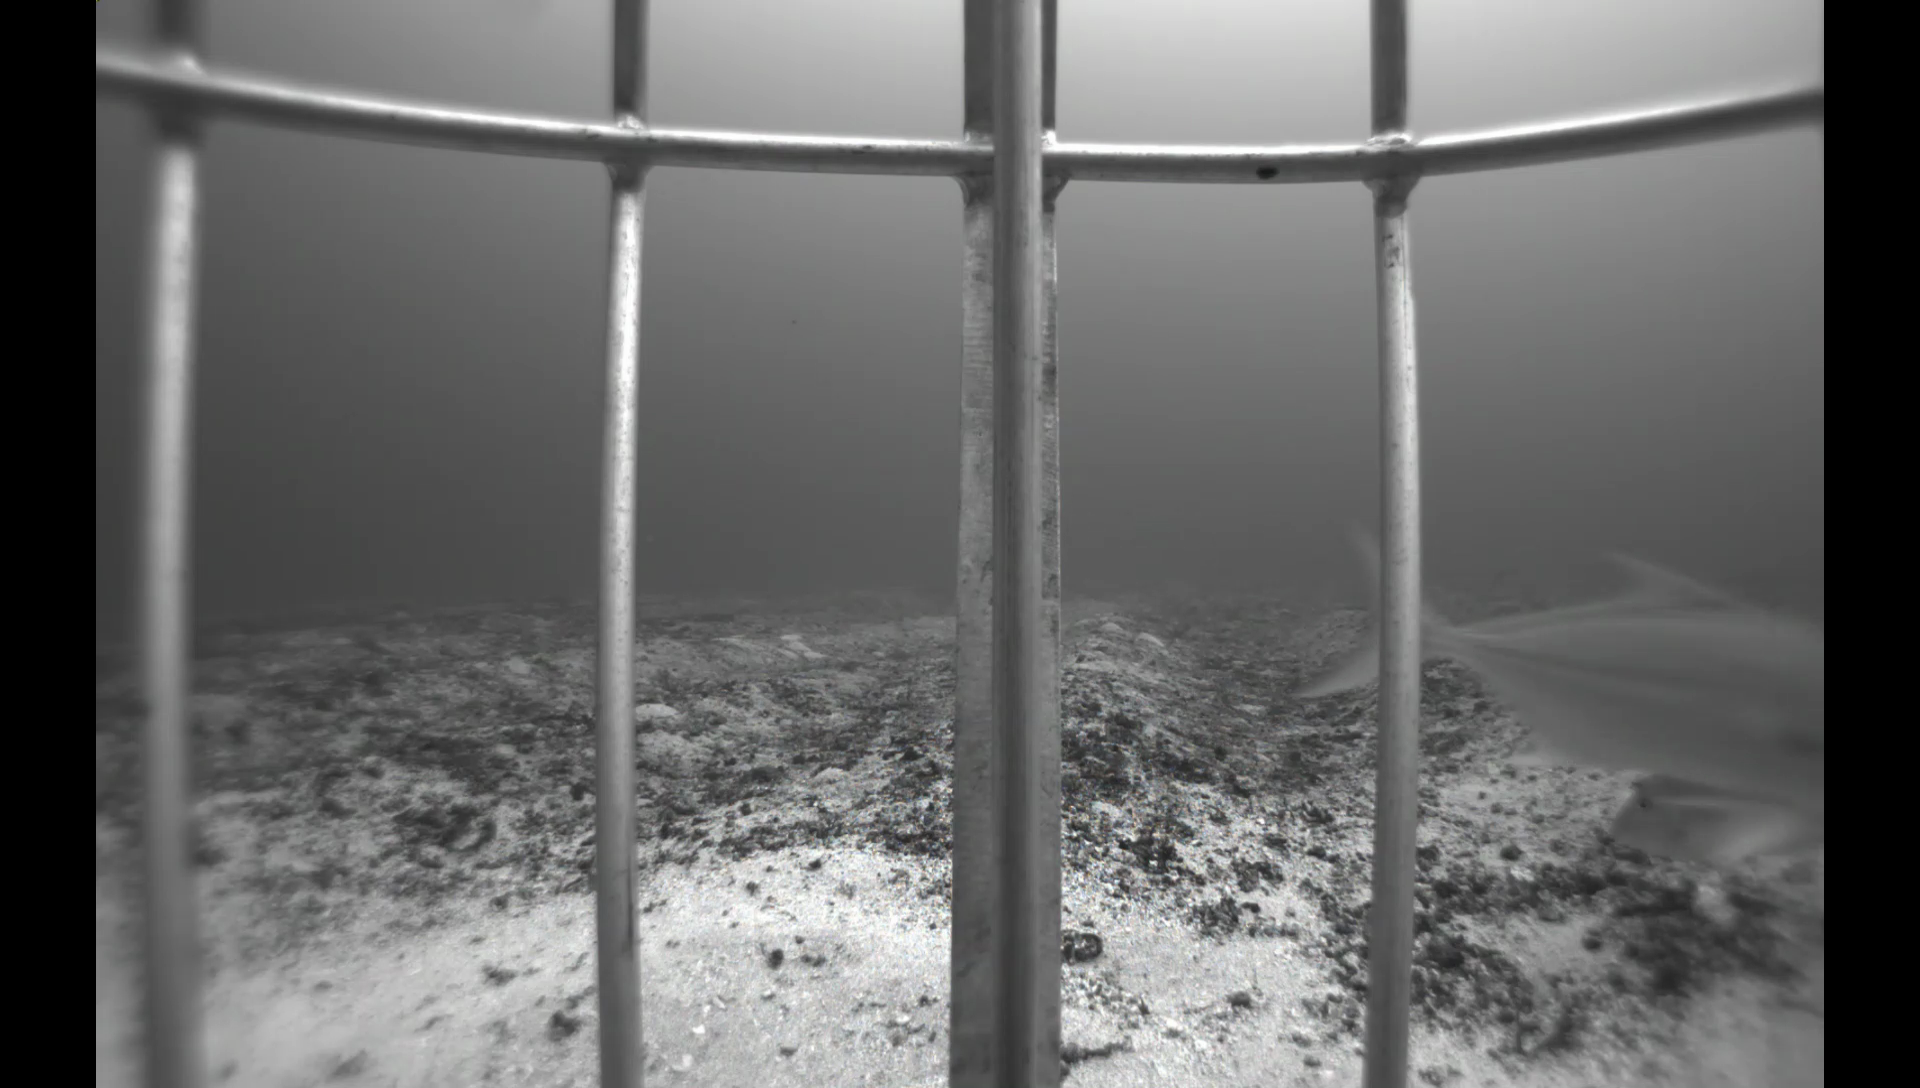CALAMUSPRORIDENS-170210605: (1589, 768, 1824, 874)
SERIOLARIVOLIANA-170113105: (1283, 499, 1824, 844)
